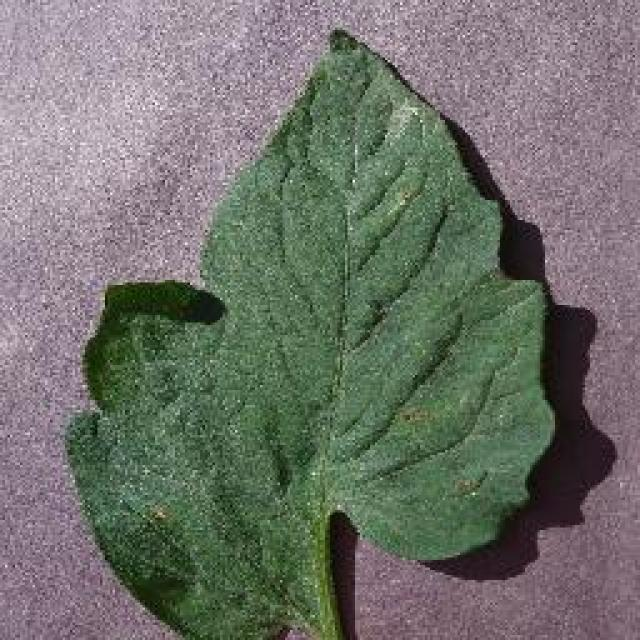Tomato Septoria spot leaf: (68, 30, 552, 640)
